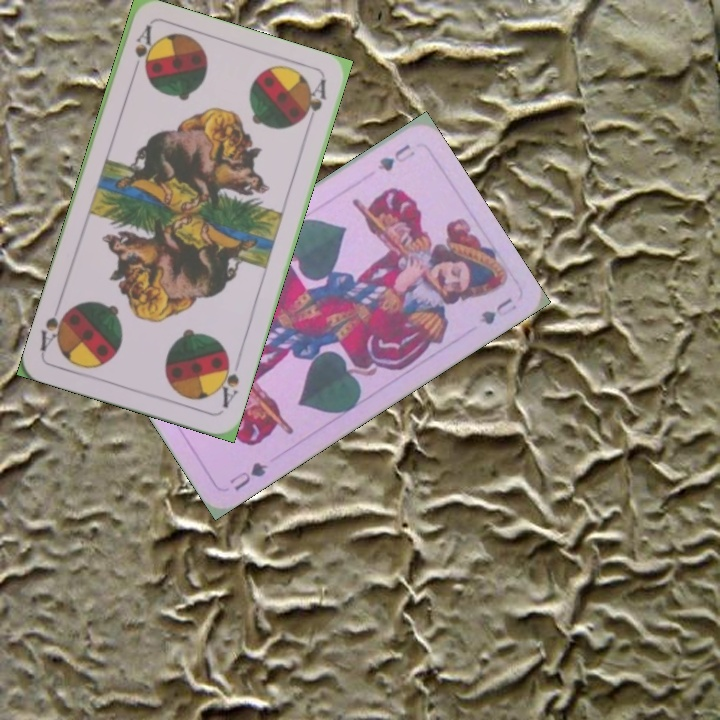GU: (225, 458, 271, 494), (373, 140, 418, 174)
SA: (213, 352, 242, 411), (130, 22, 155, 74)
